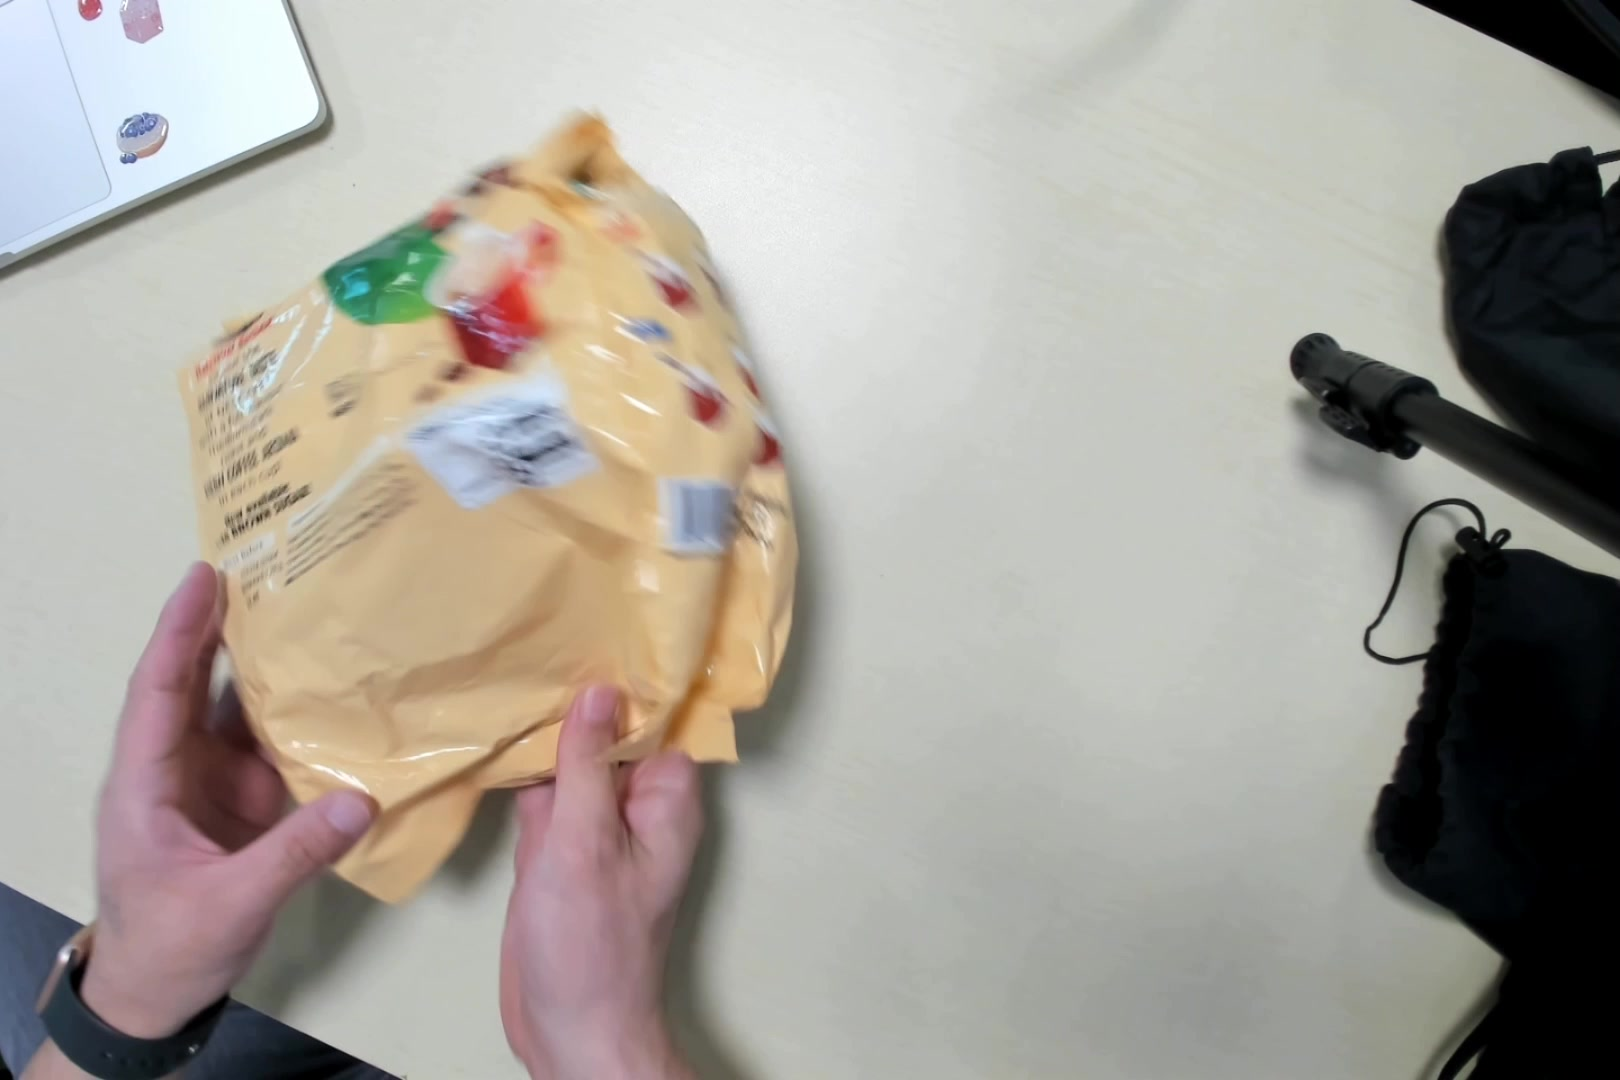Coffee(Powder)_500-599g_Halal_Healthy: (174, 129, 808, 890)
